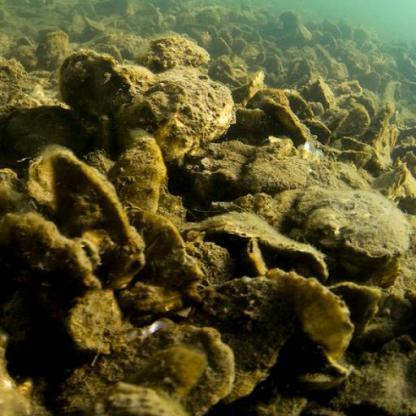Oyster- Indeterminate: (45, 315, 235, 416)
Oyster-Closed: (52, 150, 147, 294), (190, 277, 300, 400), (115, 62, 235, 160), (0, 208, 101, 305), (191, 212, 333, 275), (264, 268, 353, 361), (300, 183, 410, 257), (0, 104, 96, 165), (63, 53, 131, 123), (62, 282, 132, 349), (100, 135, 157, 215), (127, 211, 187, 285)
